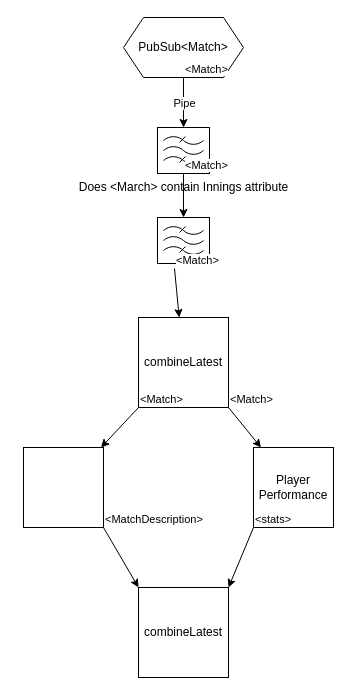
This 351x695 diagram has some shape labels left out. The box of each missing label's shape, as (x1, y1, x2, y2) in pixels:
Does <Match> Innings attribute contain data: (156, 216, 210, 264)
MatchDescription: (22, 446, 104, 528)
